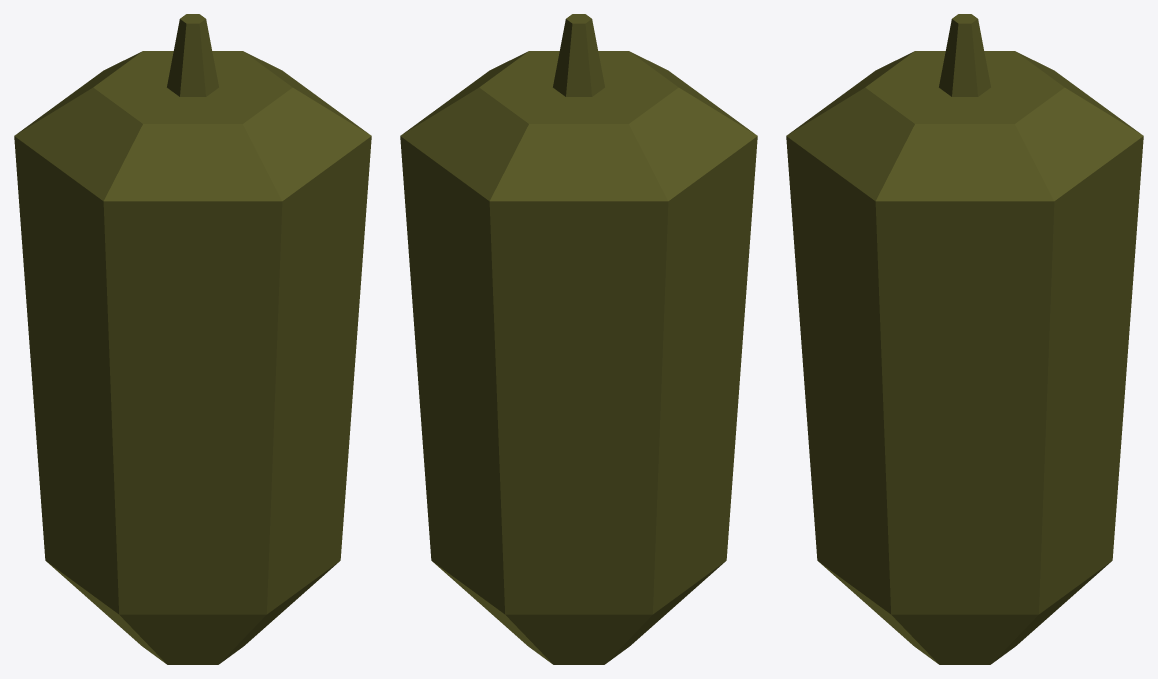
3 views of the same model, side by side, from view 1: azimuth 30°, elevation 25°; view 2: azimuth 150°, elevation 25°; view 3: azimuth 270°, elevation 25° (orthographic).
Visible parts, largest first — view 1: 玉米_pCylinder3; view 2: 玉米_pCylinder3; view 3: 玉米_pCylinder3.
Part boxes in pixels (left/top/right/bottom): 玉米_pCylinder3: left=14, top=14, right=371, bottom=664; 玉米_pCylinder3: left=400, top=14, right=757, bottom=664; 玉米_pCylinder3: left=786, top=14, right=1143, bottom=664.
Size of the model in its own units: 10.79 by 12.46 by 24.14.
